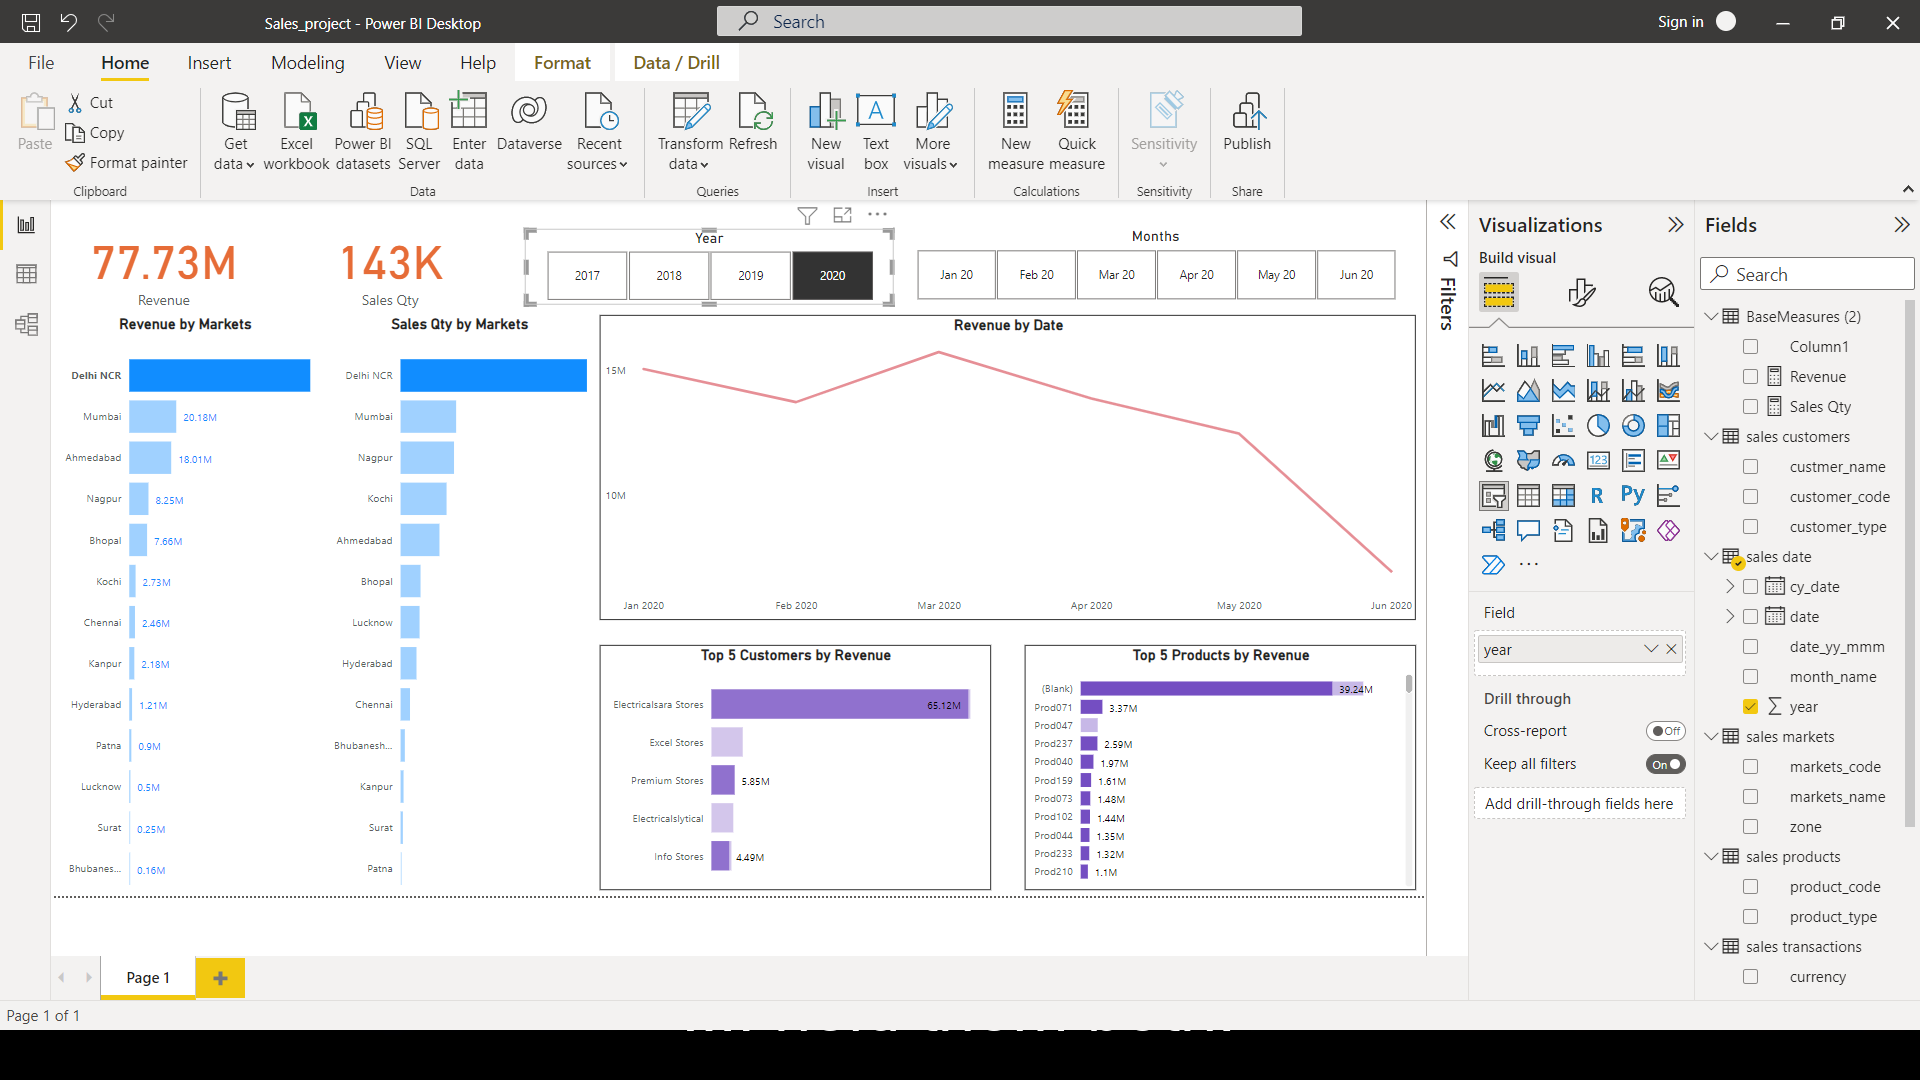

The dashboard page shown, as its layout file describes it:
{"tool":"powerbi","page":{"name":"Page 1","canvas":[1580,800],"ordinal":0},"visuals":[{"type":"card","fields":{"Values":["BaseMeasures (2).Revenue"]},"box":[0,0,259.6,152.4],"z":0},{"type":"card","fields":{"Values":["BaseMeasures (2).Sales Qty"]},"box":[259.6,0,259.6,152.4],"z":1000},{"type":"barChart","title":"Revenue by Markets","fields":{"Y":["BaseMeasures (2).Revenue"],"Category":["sales markets.markets_name"]},"box":[0,132.1,308.8,679.4],"z":2000},{"type":"barChart","title":"Sales Qty by Markets","fields":{"Y":["BaseMeasures (2).Sales Qty"],"Category":["sales markets.markets_name"]},"box":[308.8,132.1,321.7,679.4],"z":3000},{"type":"slicer","title":"Year","fields":{"Values":["sales date.year"]},"box":[545,32.5,423.7,88.8],"z":4000},{"type":"slicer","title":"Months","fields":{"Values":["sales date.cy_date"]},"box":[969.1,31.2,599.6,89],"z":5000},{"type":"barChart","title":"Top 5 Customers by Revenue","fields":{"Y":["BaseMeasures (2).Revenue"],"Category":["sales customers.custmer_name"]},"box":[630.5,510.9,449.3,281.9],"z":6000},{"type":"barChart","title":"Top 5 Products by Revenue","fields":{"Y":["BaseMeasures (2).Revenue"],"Category":["sales products.product_code"]},"box":[1118.9,511.3,449.6,281.5],"z":6001},{"type":"lineChart","title":"Revenue by Date","fields":{"Category":["sales date.cy_date"],"Y":["BaseMeasures (2).Revenue"]},"box":[630.6,132.1,937.9,350.5],"z":6002}]}

Visuals, with their boxes on the page's 1580x800 design canvas (x1, y1, x2, y2). These are canvas units, not pixel positions in the 1920x1080 screenshot, which may show the page scaled, cropped or inside an application window:
card - BaseMeasures (2).Revenue: [0, 0, 260, 152]
card - BaseMeasures (2).Sales Qty: [260, 0, 519, 152]
"Revenue by Markets" barChart: [0, 132, 309, 812]
"Sales Qty by Markets" barChart: [309, 132, 630, 812]
"Year" slicer: [545, 32, 969, 121]
"Months" slicer: [969, 31, 1569, 120]
"Top 5 Customers by Revenue" barChart: [630, 511, 1080, 793]
"Top 5 Products by Revenue" barChart: [1119, 511, 1568, 793]
"Revenue by Date" lineChart: [631, 132, 1568, 483]
